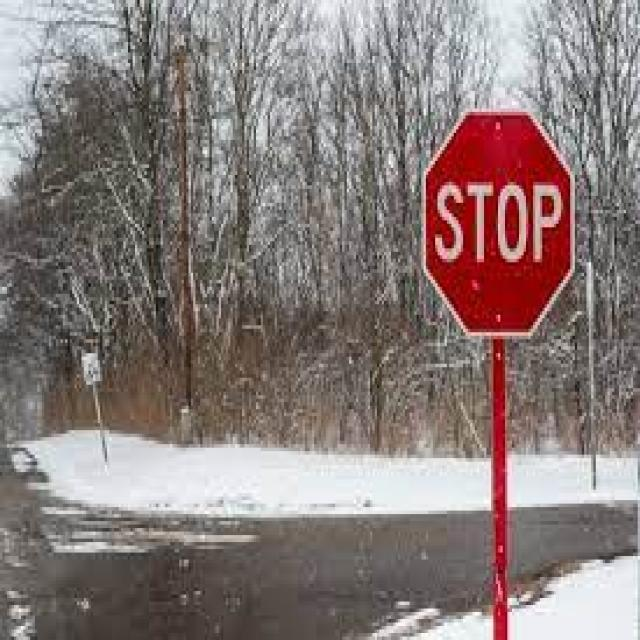stop-sign: (412, 122, 586, 337)
